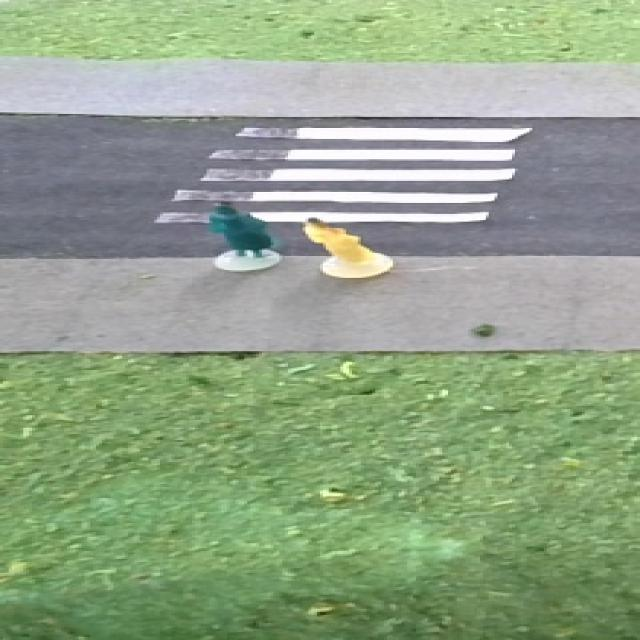person: (295, 213, 389, 282), (205, 198, 277, 274)
